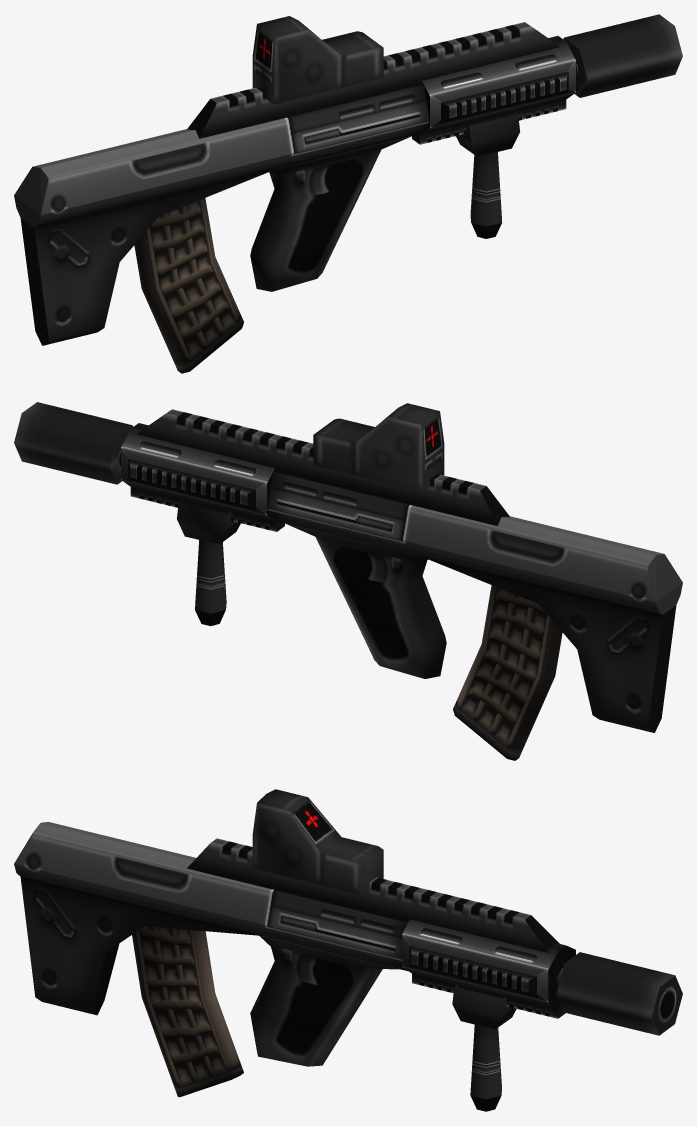
The model's file is aug a3 lv3.FBX.
3 renders of one model, top to bottom at view 1: azimuth 30°, elevation 25°; view 2: azimuth 150°, elevation 25°; view 3: azimuth 330°, elevation 25°, orthographic.
Parts seen in each view (by area): view 1: Object136; view 2: Object136; view 3: Object136.
Part boxes in pixels (bbox=[...]): Object136: bbox=[14, 14, 682, 373]; Object136: bbox=[14, 402, 682, 760]; Object136: bbox=[14, 789, 682, 1111].
Bounding box in the file's own units: 82.21 × 39.61 × 8.53.
